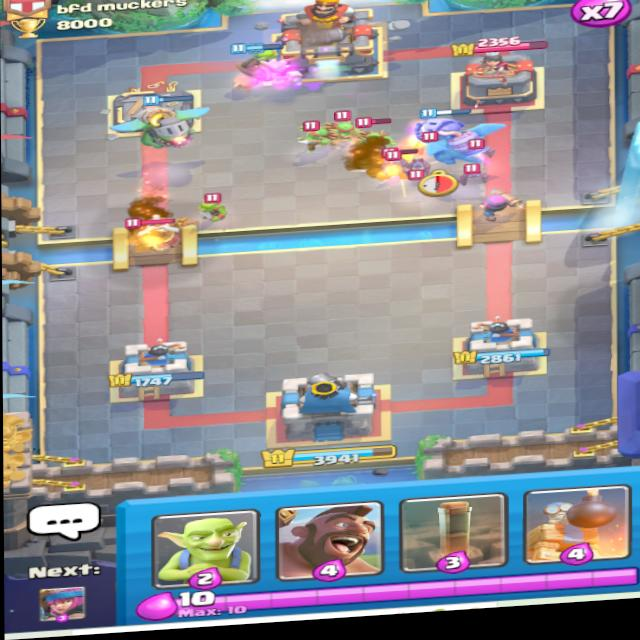bats: (455, 162, 496, 185)
goblin: (194, 194, 225, 225)
monk: (118, 209, 191, 255)
spear-goblin: (292, 114, 339, 151), (321, 104, 361, 144)
